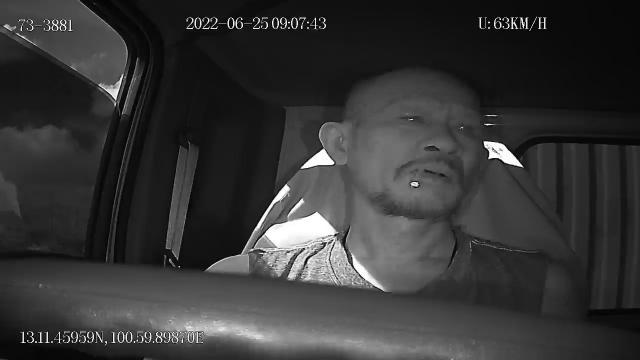SafeDriving: (388, 104, 429, 132), (446, 113, 482, 141)
Smoking: (410, 166, 424, 187)
